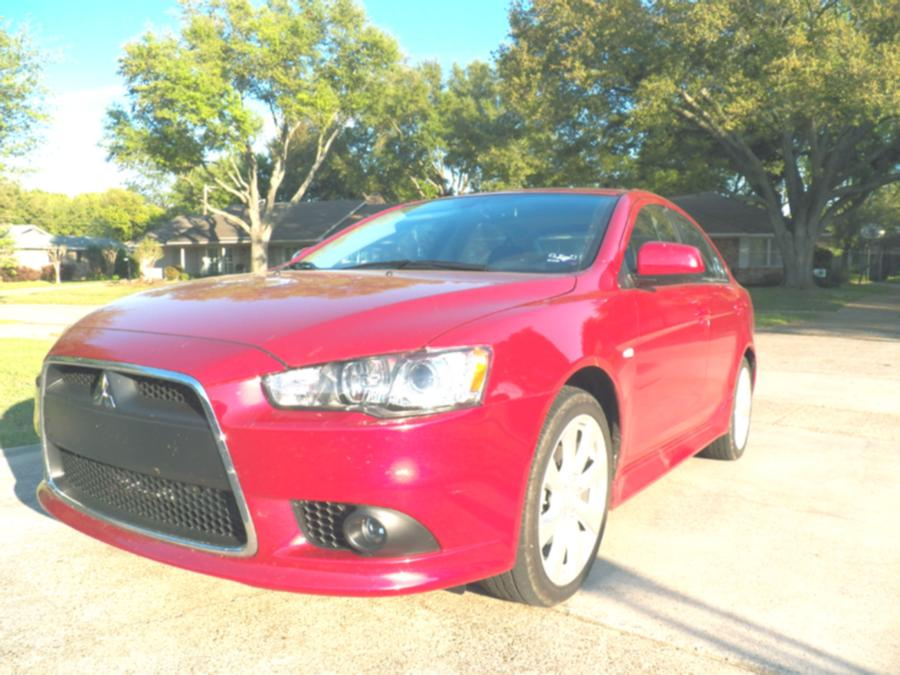Mitsubishi: (76, 372, 136, 415)
